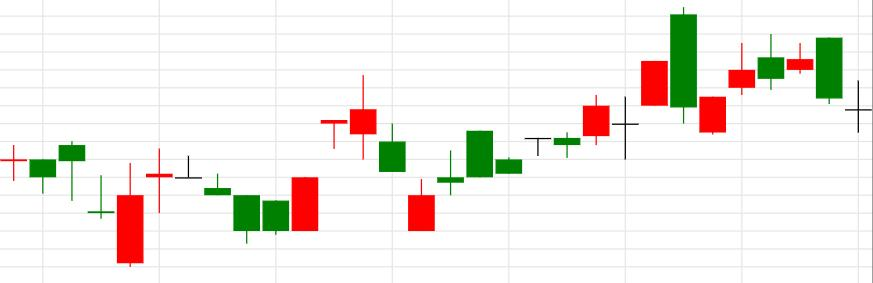bearish_engulfing_fall: (407, 6, 698, 232)
bullish_engulfing_rise: (147, 147, 320, 243)
